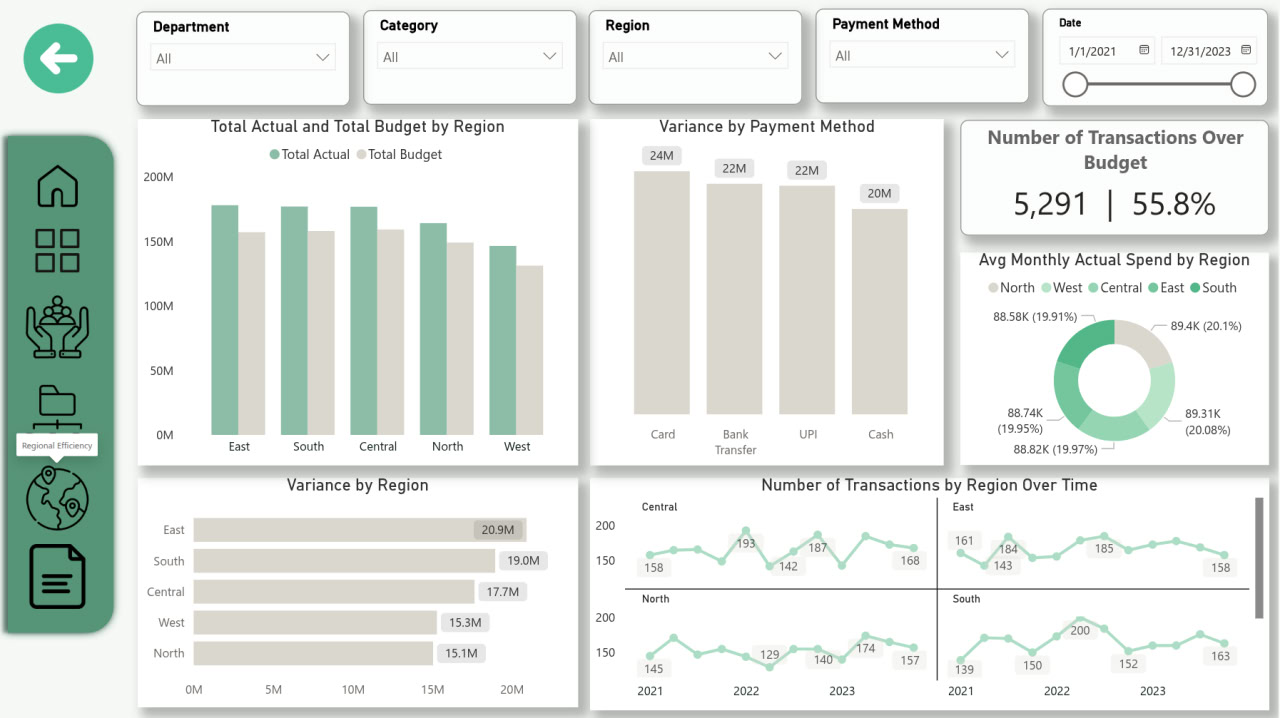

Layout of this report page (visuals, bound fields, positions):
{"tool":"powerbi","page":{"name":"Regional Efficiency","canvas":[1280,720],"ordinal":4},"visuals":[{"type":"columnChart","fields":{"Category":["Data.Payment Method"],"Y":["Measures_.Variance"]},"box":[590.5,119.2,354.3,346.8],"z":0,"group":"g3"},{"type":"shape","box":[0,128.3,121.7,513.3],"z":0},{"type":"slicer","fields":{"Values":["Data.Payment Method"]},"box":[816.6,8.3,213.5,95.4],"z":1000,"group":"g1"},{"type":"image","box":[25,218.3,65,65],"z":1000},{"type":"group","id":"g1","title":"Group 3","box":[136.7,8.3,1131.7,98.3],"z":2000},{"type":"slicer","fields":{"Values":["Calendar.Date"]},"box":[1043.7,8.3,225.6,98.4],"z":2000,"group":"g1"},{"type":"slicer","fields":{"Values":["Data.Region"]},"box":[589.4,9.8,213.5,95.4],"z":3000,"group":"g1"},{"type":"clusteredColumnChart","fields":{"Category":["Data.Region"],"Y":["Measures_.Total Actual","Measures_.Total Budget"]},"box":[137.8,119.2,440.6,346.8],"z":3000,"group":"g3"},{"type":"image","box":[25,295,65,65],"z":3000},{"type":"clusteredBarChart","fields":{"Category":["Data.Region"],"Y":["Measures_.Variance"]},"box":[137.8,478.5,440.6,230.2],"z":3000,"group":"g2"},{"type":"slicer","fields":{"Values":["Data.Category"]},"box":[363.8,9.8,213.5,95.4],"z":4000,"group":"g1"},{"type":"donutChart","fields":{"Category":["Data.Region"],"Y":["Measures_.Avg Monthly Actual Spend"]},"box":[961.4,252.7,308.6,212.9],"z":4000,"group":"g3"},{"type":"group","id":"g2","title":"Group 4","box":[137.8,478.5,1132.6,233.2],"z":4000},{"type":"slicer","fields":{"Values":["Data.Department"]},"box":[136.7,11.3,213.5,95.4],"z":5000,"group":"g1"},{"type":"image","box":[25,385,65,65],"z":5000},{"type":"lineChart","title":"Number of Transactions by Region Over Time","fields":{"Y":["CountNonNull(Data.Transaction ID)"],"Rows":["Data.Region"],"Category":["Calendar.Date.Variation.Date Hierarchy.Year","Calendar.Date.Variation.Date Hierarchy.Quarter","Calendar.Date.Variation.Date Hierarchy.Month","Calendar.Date.Variation.Date Hierarchy.Day"]},"box":[590.5,478.5,679.9,233.2],"z":5000,"group":"g2"},{"type":"card","title":"Number of Transactions Over Budget","fields":{"Values":["Measures_.Over-Budget KPI"]},"box":[961.4,119.8,308.6,115.7],"z":6000,"group":"g3"},{"type":"image","box":[25,466.7,65,65],"z":6000},{"type":"image","box":[25,545,65,65],"z":7000},{"type":"image","box":[25,153.3,65,65],"z":8000},{"type":"group","id":"g3","title":"Group 1","box":[137.8,119.2,1132.2,346.8],"z":9000},{"type":"image","box":[18.3,23.3,80,70],"z":10000}]}

Visuals, with their boxes on the page's 1280x720 design canvas (x1, y1, x2, y2). These are canvas units, not pixel positions in the 1280x718 screenshot, which may show the page scaled, cropped or inside an application window:
columnChart - Data.Payment Method x Measures_.Variance: l=590, t=119, r=945, b=466
shape: l=0, t=128, r=122, b=642
slicer - Data.Payment Method: l=817, t=8, r=1030, b=104
image: l=25, t=218, r=90, b=283
"Group 3" group: l=137, t=8, r=1268, b=107
slicer - Calendar.Date: l=1044, t=8, r=1269, b=107
slicer - Data.Region: l=589, t=10, r=803, b=105
clusteredColumnChart - Data.Region x Measures_.Total Actual: l=138, t=119, r=578, b=466
image: l=25, t=295, r=90, b=360
clusteredBarChart - Data.Region x Measures_.Variance: l=138, t=478, r=578, b=709
slicer - Data.Category: l=364, t=10, r=577, b=105
donutChart - Data.Region x Measures_.Avg Monthly Actual Spend: l=961, t=253, r=1270, b=466
"Group 4" group: l=138, t=478, r=1270, b=712
slicer - Data.Department: l=137, t=11, r=350, b=107
image: l=25, t=385, r=90, b=450
"Number of Transactions by Region Over Time" lineChart: l=590, t=478, r=1270, b=712
"Number of Transactions Over Budget" card: l=961, t=120, r=1270, b=236
image: l=25, t=467, r=90, b=532
image: l=25, t=545, r=90, b=610
image: l=25, t=153, r=90, b=218
"Group 1" group: l=138, t=119, r=1270, b=466
image: l=18, t=23, r=98, b=93
